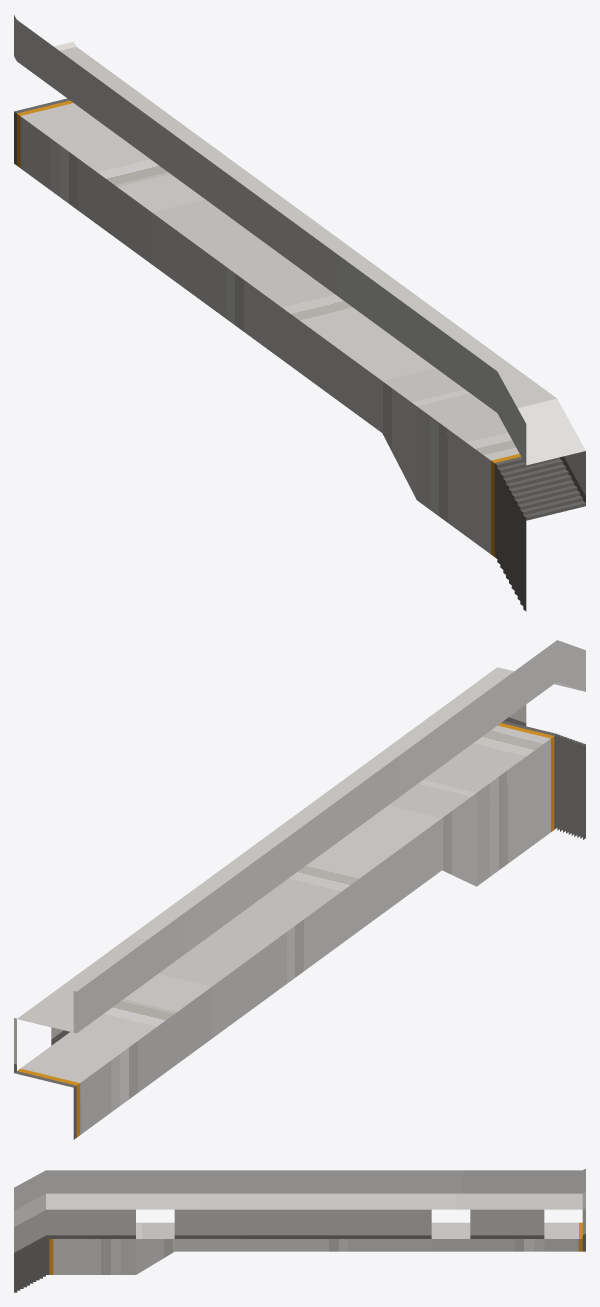
The model's file is Hallway.fbx.
3 renders of one model, top to bottom at view 1: azimuth 30°, elevation 25°; view 2: azimuth 150°, elevation 25°; view 3: azimuth 270°, elevation 25°, orthographic. The views are drawn at different scales.
Visible parts, largest first — view 1: PasilloPrincipal; view 2: PasilloPrincipal; view 3: PasilloPrincipal.
Boxes of the visible parts, <box> form: PasilloPrincipal: <box>14,15,585,611</box>; PasilloPrincipal: <box>14,640,585,1139</box>; PasilloPrincipal: <box>14,1168,585,1292</box>.
Bounding box in the file's own units: 3 × 44.5 × 10.65.
Materials: 5 (5 with a texture image).
